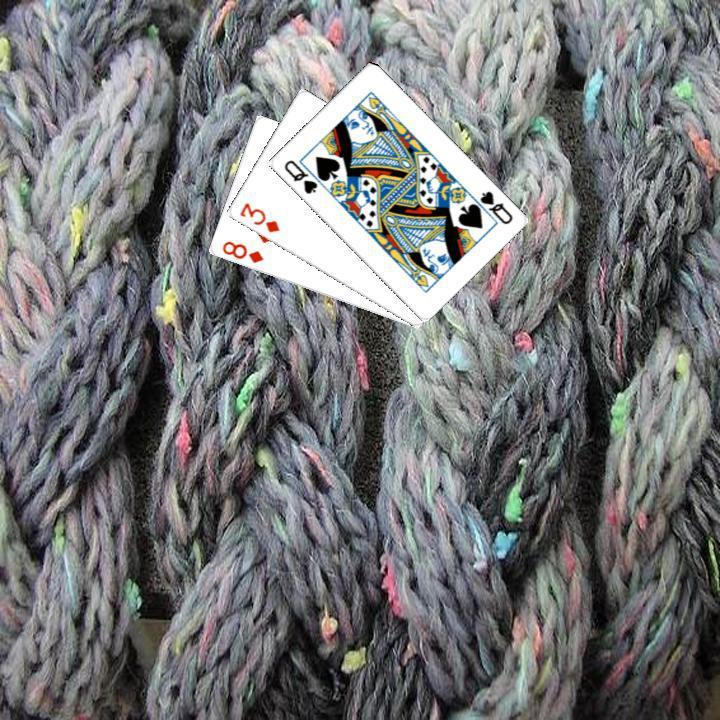3: (235, 198, 281, 235)
8: (217, 237, 265, 265)
Q: (279, 155, 319, 196), (475, 186, 514, 227)
